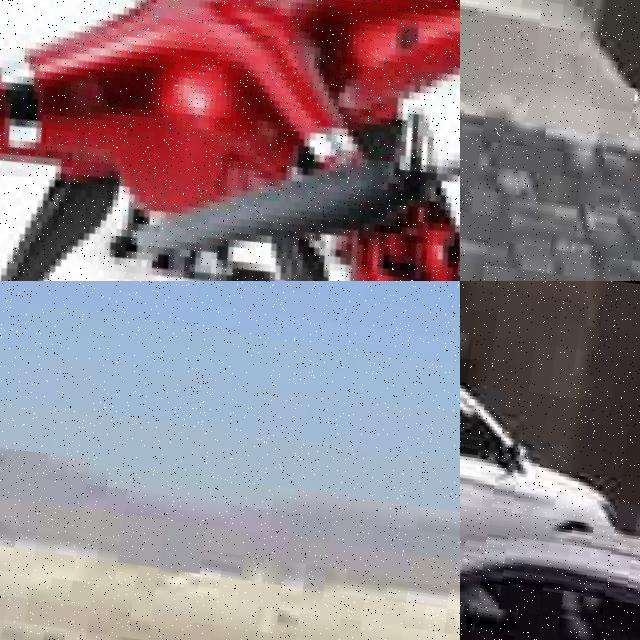drone: (0, 0, 460, 281)
